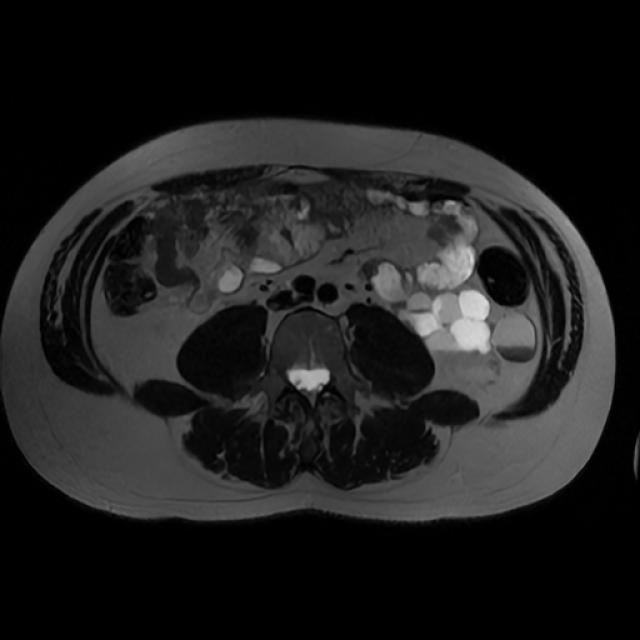sol: (394, 288, 537, 363)
